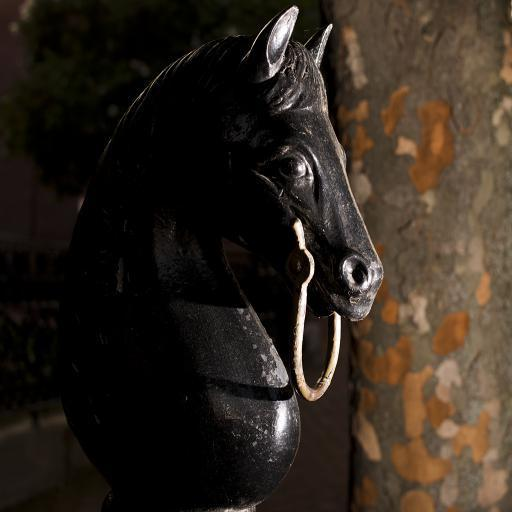horse: (56, 2, 386, 512)
